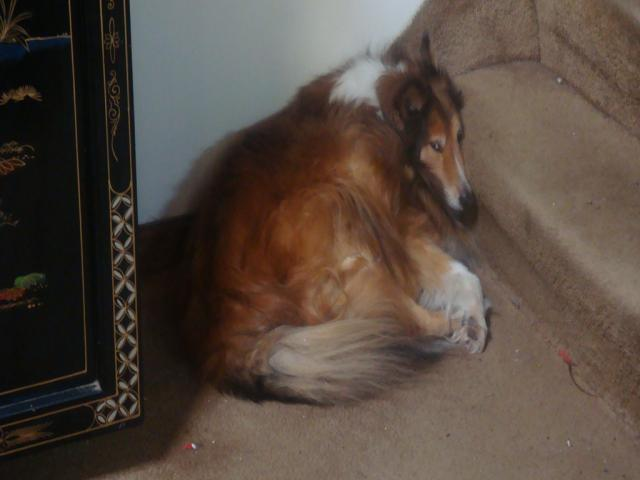Dog: (184, 33, 493, 410)
